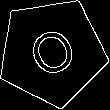O_SE: (21, 19, 83, 85)
